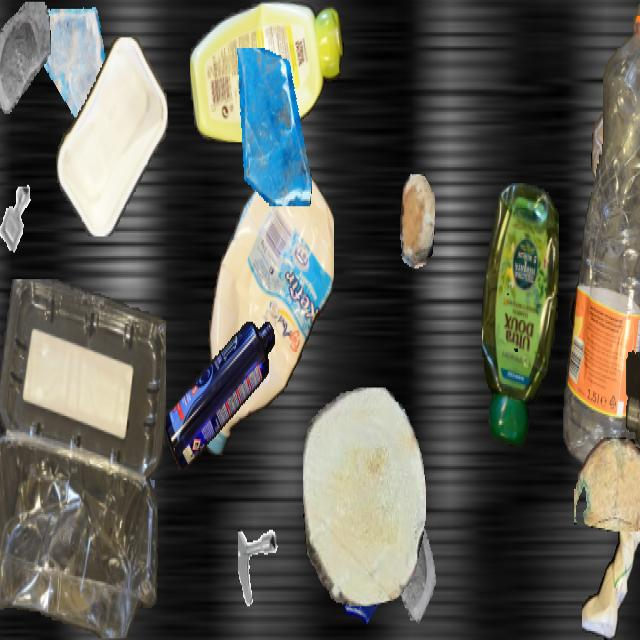glass: (228, 48, 316, 204), (79, 426, 155, 562), (373, 502, 449, 636), (35, 2, 107, 130), (333, 512, 395, 622), (0, 2, 50, 112)
metal: (238, 526, 298, 633), (0, 172, 42, 265)
plastic: (0, 279, 165, 638), (204, 153, 334, 462), (563, 2, 640, 471), (55, 38, 169, 236), (190, 2, 344, 140), (482, 183, 558, 446), (569, 197, 640, 439), (164, 322, 274, 468), (590, 71, 640, 377), (582, 489, 640, 638), (626, 302, 640, 519)
wood: (303, 388, 425, 604), (574, 437, 640, 530), (400, 174, 434, 267)
